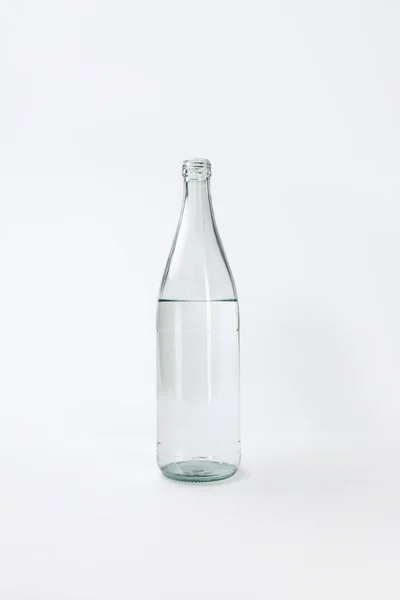glass_bottle: (135, 147, 264, 500)
